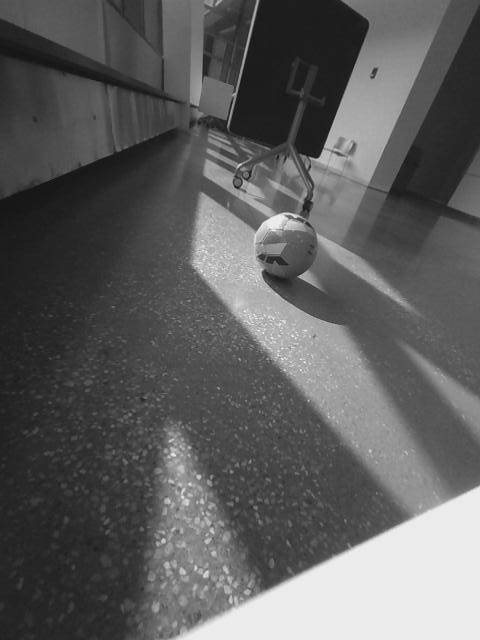ball: (251, 211, 320, 282)
